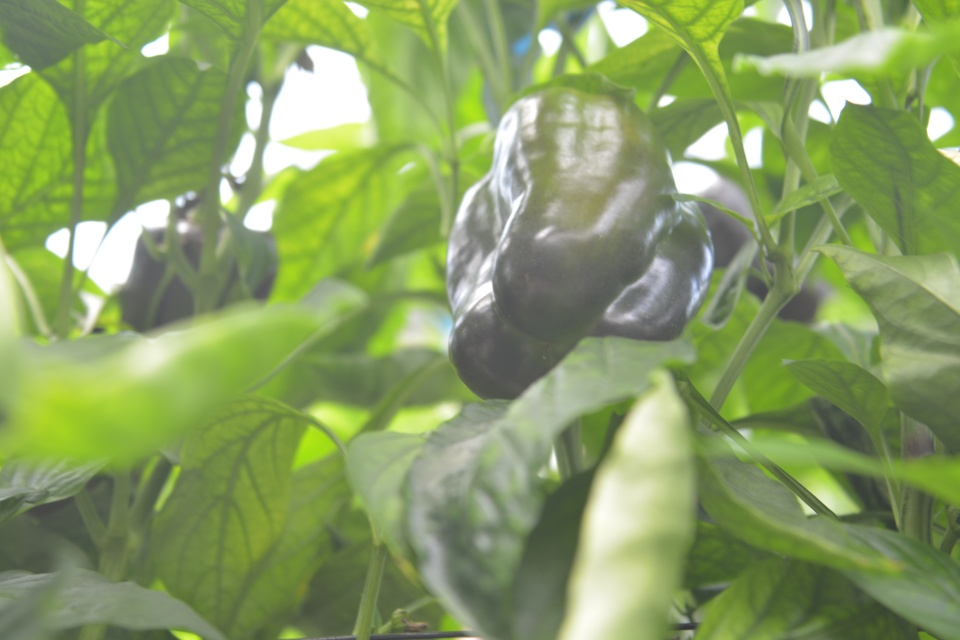fruit: (444, 81, 715, 404), (120, 187, 279, 334), (692, 178, 836, 328)
